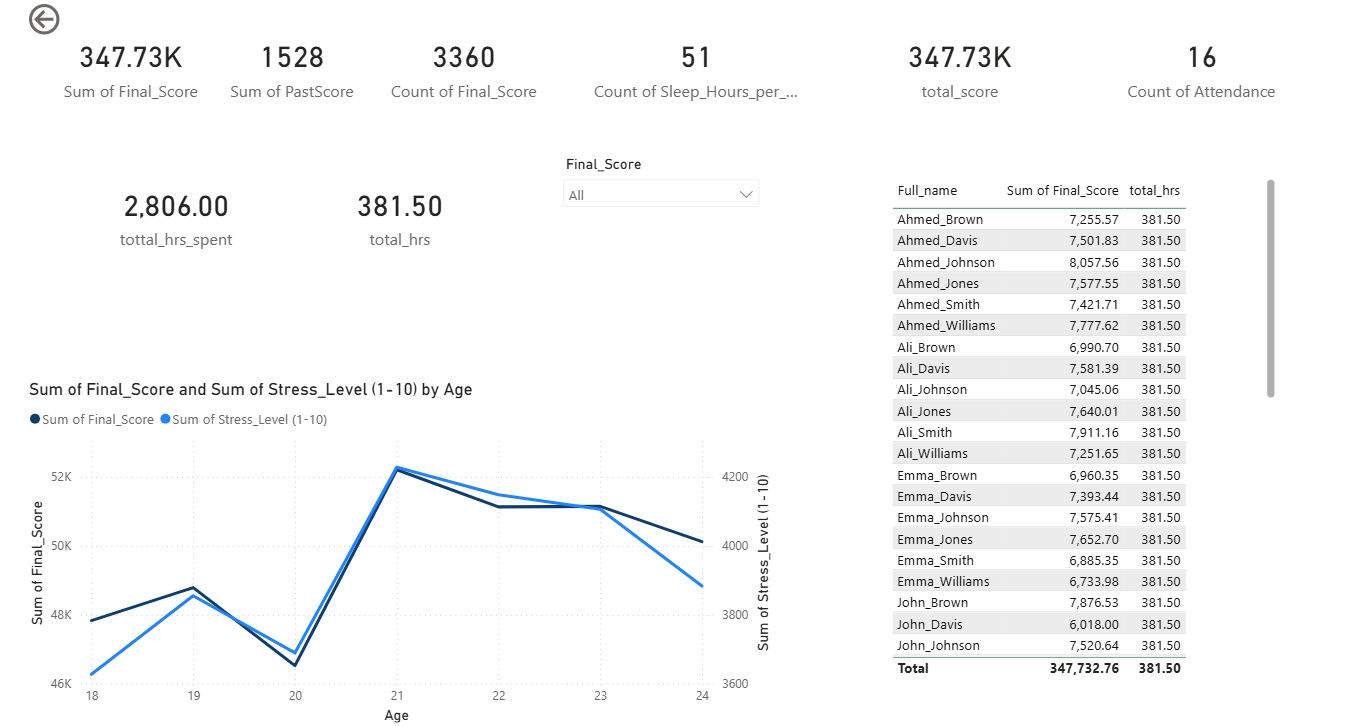

What the dashboard file says about the page in this screenshot:
{"tool":"powerbi","page":{"name":"Page 1","canvas":[1280,720],"ordinal":1},"visuals":[{"type":"lineChart","fields":{"Category":["Students Overall Performance.Age"],"Y2":["Sum(Students Overall Performance.Stress_Level (1-10))"],"Y":["Sum(Students Overall Performance.Final_Score)"]},"box":[0,375.7,742.6,344.6],"z":0},{"type":"card","fields":{"Values":["Sum(Students Overall Performance.Final_Score)"]},"box":[0,0,211.5,131.9],"z":1000},{"type":"card","fields":{"Values":["Sum(Student_Performance_Factors.PastScore)"]},"box":[180.4,0,169.2,131.9],"z":2000},{"type":"card","fields":{"Values":["Count(Students Overall Performance.Final_Score)"]},"box":[338.4,0,192.8,131.9],"z":3000},{"type":"card","fields":{"Values":["Count(Students Overall Performance.Sleep_Hours_per_Night)"]},"box":[554.8,0,218.9,133.1],"z":4000},{"type":"card","fields":{"Values":["Count(Student_Performance_Factors.Attendance)"]},"box":[1047.4,0,232.6,131.9],"z":5000},{"type":"slicer","fields":{"Values":["Students Overall Performance.Final_Score"]},"box":[522.5,149.3,214,125.6],"z":6000},{"type":"actionButton","box":[0,0,100,40],"z":7000},{"type":"card","fields":{"Values":["Student_Performance_Factors.tottal_hrs_spent"]},"box":[0,146.8,301,131.9],"z":8000},{"type":"card","fields":{"Values":["Student_Performance_Factors.total_hrs"]},"box":[221.4,146.8,301,131.9],"z":9000},{"type":"card","fields":{"Values":["Student_Performance_Factors.total_score"]},"box":[773.7,0,301,131.9],"z":10000},{"type":"tableEx","fields":{"Values":["Students Overall Performance.Full_name","Sum(Students Overall Performance.Final_Score)","Student_Performance_Factors.total_hrs"]},"box":[852.1,172.9,389.4,502.6],"z":11000}]}

Visuals, with their boxes on the page's 1280x720 design canvas (x1, y1, x2, y2). These are canvas units, not pixel positions in the 1346x726 screenshot, which may show the page scaled, cropped or inside an application window:
lineChart - Students Overall Performance.Age x Sum(Students Overall Performance.Stress_Level (1-10)): [left=0, top=376, right=743, bottom=720]
card - Sum(Students Overall Performance.Final_Score): [left=0, top=0, right=212, bottom=132]
card - Sum(Student_Performance_Factors.PastScore): [left=180, top=0, right=350, bottom=132]
card - Count(Students Overall Performance.Final_Score): [left=338, top=0, right=531, bottom=132]
card - Count(Students Overall Performance.Sleep_Hours_per_Night): [left=555, top=0, right=774, bottom=133]
card - Count(Student_Performance_Factors.Attendance): [left=1047, top=0, right=1280, bottom=132]
slicer - Students Overall Performance.Final_Score: [left=522, top=149, right=736, bottom=275]
actionButton: [left=0, top=0, right=100, bottom=40]
card - Student_Performance_Factors.tottal_hrs_spent: [left=0, top=147, right=301, bottom=279]
card - Student_Performance_Factors.total_hrs: [left=221, top=147, right=522, bottom=279]
card - Student_Performance_Factors.total_score: [left=774, top=0, right=1075, bottom=132]
tableEx - Students Overall Performance.Full_name x Sum(Students Overall Performance.Final_Score): [left=852, top=173, right=1242, bottom=676]
